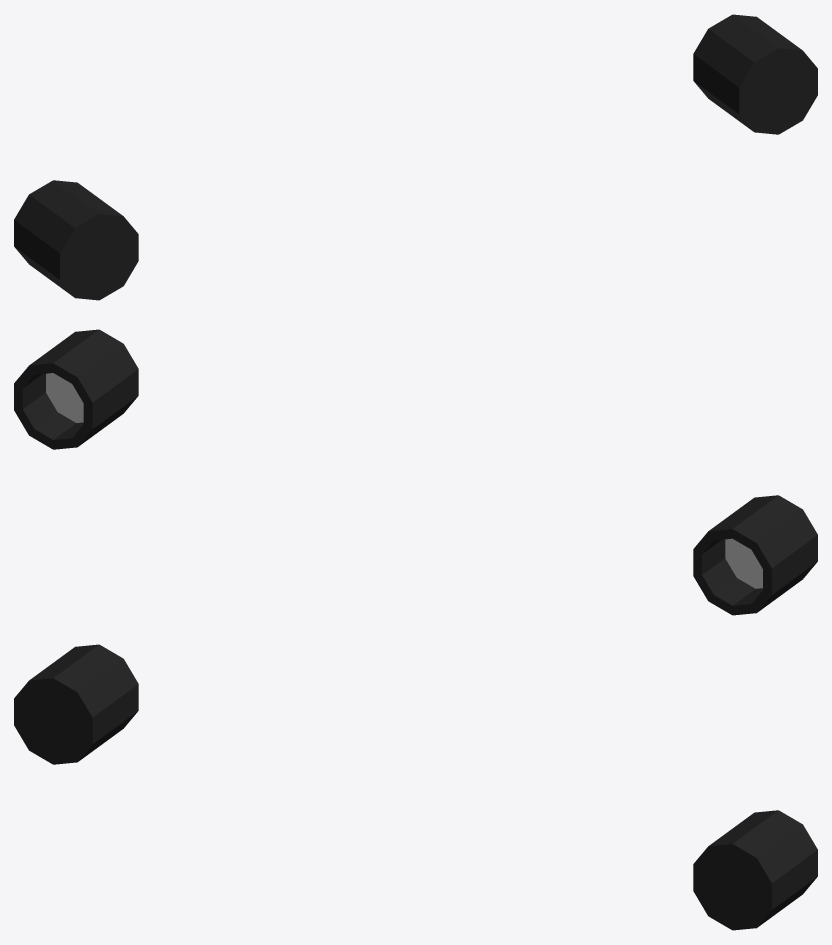
File: exhaust3.glb
3 views of the same model, one above another, from view 1: azimuth 30°, elevation 25°; view 2: azimuth 150°, elevation 25°; view 3: azimuth 330°, elevation 25° (orthographic).
Parts seen in each view (by area): view 1: exhaust3; view 2: exhaust3; view 3: exhaust3.
Part boxes in pixels (x1,y1,x2,y2): exhaust3: (14, 14, 817, 300); exhaust3: (14, 329, 817, 615); exhaust3: (14, 644, 817, 930).
Bounding box in the file's own units: 2.35 × 0.2559 × 0.2472.
Materials: 1 (1 with a texture image).
